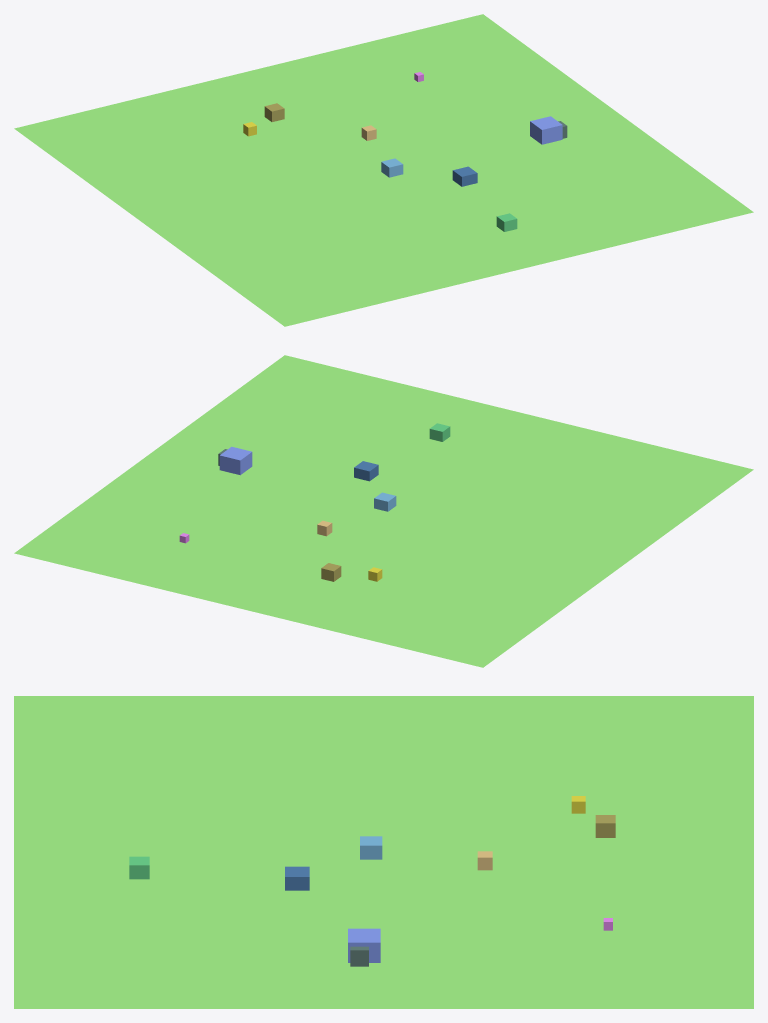
3 renders of one model, top to bottom at view 1: azimuth 30°, elevation 25°; view 2: azimuth 150°, elevation 25°; view 3: azimuth 270°, elevation 25°, orthographic. The views are drawn at different scales.
Visible parts, largest first — view 1: Chunk_0_-2; view 2: Chunk_0_-2; view 3: Chunk_0_-2.
Part boxes in pixels (box(x1,y1,x2,y2)): Chunk_0_-2: box(14, 14, 753, 326); Chunk_0_-2: box(14, 355, 753, 667); Chunk_0_-2: box(14, 696, 753, 1008).
Size of the model in its own units: 1500 by 66.35 by 1500.
